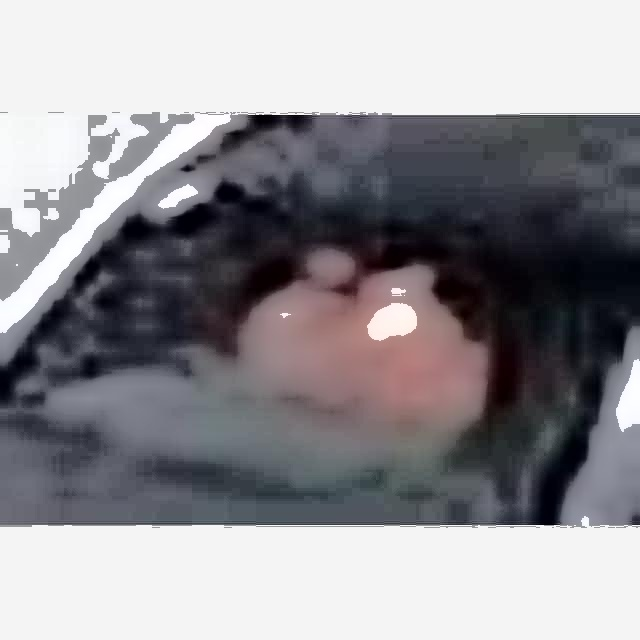tidak-pakai: (217, 248, 459, 417)
